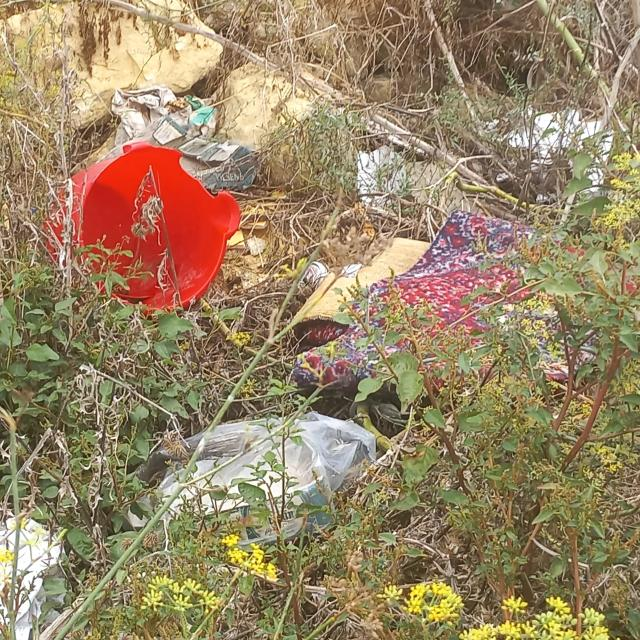Other litter: (281, 210, 640, 398)
Other plastic: (38, 141, 245, 319), (357, 106, 617, 206), (0, 511, 66, 640)
Paper: (112, 82, 258, 191)
Plastic bag - wrapper: (125, 410, 376, 547)
